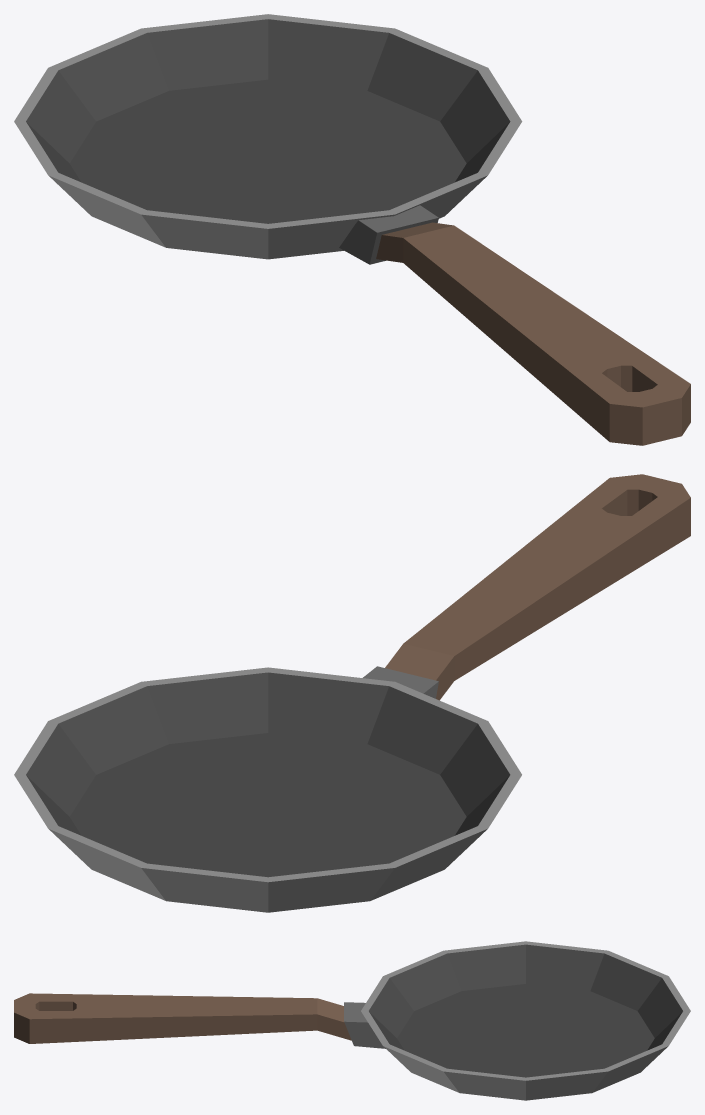
The model's file is Pan_08_C1.fbx.
3 views of the same model, one above another, from view 1: azimuth 30°, elevation 25°; view 2: azimuth 150°, elevation 25°; view 3: azimuth 270°, elevation 25° (orthographic). The views are drawn at different scales.
Parts seen in each view (by area): view 1: Pan_08_C1; view 2: Pan_08_C1; view 3: Pan_08_C1.
Boxes of the visible parts, left/top/right/bottom form: Pan_08_C1: left=14, top=14, right=690, bottom=445; Pan_08_C1: left=14, top=474, right=690, bottom=912; Pan_08_C1: left=14, top=941, right=690, bottom=1100.
Bounding box in the file's own units: 18.36 × 2.35 × 37.64.
